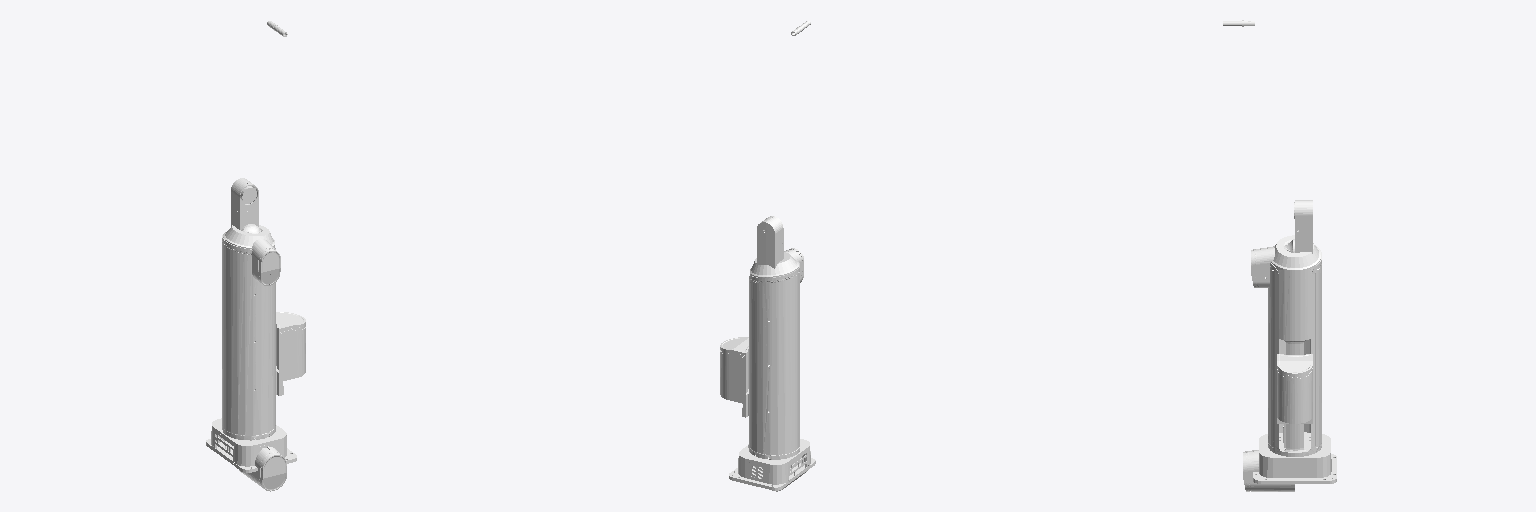
URDF robot description (cr10_robot):
<?xml version="1.0" encoding="utf-8"?>
<!-- This URDF was automatically created by SolidWorks to URDF Exporter! Originally created by [author] ([email redacted]) 
     Commit Version: 1.6.0-1-g15f4949  Build Version: 1.6.7594.29634
     For more information, please see http://wiki.ros.org/sw_urdf_exporter -->
<robot
  name="cr10_robot">
  <link name="dummy_link"/>
  <link
    name="base_link">
    <inertial>
      <origin
        xyz="-0.0017435 -4.7141E-06 0.032774"
        rpy="0 0 0" />
      <mass
        value="1.8265" />
      <inertia
        ixx="0.0041731"
        ixy="5.9354E-07"
        ixz="2.52E-05"
        iyy="0.0043128"
        iyz="-5.4503E-07"
        izz="0.0067702" />
    </inertial>
    <visual>
      <origin
        xyz="0 0 0"
        rpy="0 0 0" />
      <geometry>
        <mesh
          filename="package://cr_description/meshes/cr10/base_link.STL" />
      </geometry>
      <material
        name="">
        <color
          rgba="1 1 1 1" />
      </material>
    </visual>
    <collision>
      <origin
        xyz="0 0 0"
        rpy="0 0 0" />
      <geometry>
        <mesh
          filename="package://cr_description/meshes/cr10/base_link.STL" />
      </geometry>
    </collision>
  </link>
     <joint name="dummy_joint" type="fixed">
      <parent link="dummy_link" />
      <child  link="base_link" />
    </joint>
  <link
    name="Link1">
    <inertial>
      <origin
        xyz="-1.6635E-06 -0.010819 0.0028389"
        rpy="0 0 0" />
      <mass
        value="4.1649" />
      <inertia
        ixx="0.020714"
        ixy="-1.9343E-07"
        ixz="1.6036E-07"
        iyy="0.018824"
        iyz="-9.6731E-05"
        izz="0.014575" />
    </inertial>
    <visual>
      <origin
        xyz="0 0 0"
        rpy="0 0 0" />
      <geometry>
        <mesh
          filename="package://cr_description/meshes/cr10/Link1.STL" />
      </geometry>
      <material
        name="">
        <color
          rgba="1 1 1 1" />
      </material>
    </visual>
    <collision>
      <origin
        xyz="0 0 0"
        rpy="0 0 0" />
      <geometry>
        <mesh
          filename="package://cr_description/meshes/cr10/Link1.STL" />
      </geometry>
    </collision>
  </link>
  <joint
    name="joint1"
    type="revolute">
    <origin
      xyz="0 0 0.1765"
      rpy="0 0 0" />
    <parent
      link="base_link" />
    <child
      link="Link1" />
    <axis
      xyz="0 0 1" />
    <limit
      lower="-3.14"
      upper="3.14"
      effort="0"
      velocity="0" />
  </joint>
  <link
    name="Link2">
    <inertial>
      <origin
        xyz="-0.24631 3.5816E-07 0.19515"
        rpy="0 0 0" />
      <mass
        value="11.314" />
      <inertia
        ixx="0.033616"
        ixy="-8.2998E-07"
        ixz="-0.0033352"
        iyy="0.30683"
        iyz="-6.6457E-08"
        izz="0.29972" />
    </inertial>
    <visual>
      <origin
        xyz="0 0 0"
        rpy="0 0 0" />
      <geometry>
        <mesh
          filename="package://cr_description/meshes/cr10/Link2.STL"  />
      </geometry>
      <material
        name="">
        <color
          rgba="1 1 1 1" />
      </material>
    </visual>
    <collision>
      <origin
        xyz="0 0 0"
        rpy="0 0 0" />
      <geometry>
        <mesh
          filename="package://cr_description/meshes/cr10/Link2.STL" />
      </geometry>
    </collision>
  </link>
  <joint
    name="joint2"
    type="revolute">
    <origin
      xyz="0 0 0"
      rpy="1.5708 1.5708 0" />
    <parent
      link="Link1" />
    <child
      link="Link2" />
    <axis
      xyz="0 0 1" />
    <limit
      lower="-3.14"
      upper="3.14"
      effort="0"
      velocity="0" />
  </joint>
  <link
    name="Link3">
    <inertial>
      <origin
        xyz="-0.270855859955203 2.5144690851208E-07 0.0622960395387155"
        rpy="0 0 0" />
      <mass
        value="4.89191189064363" />
      <inertia
        ixx="0.00715720724136357"
        ixy="-5.62017408817872E-07"
        ixz="-0.00257748068989916"
        iyy="0.239673426443838"
        iyz="9.26228295895878E-08"
        izz="0.238369168055991" />
    </inertial>
    <visual>
      <origin
        xyz="0 0 0"
        rpy="0 0 0" />
      <geometry>
        <mesh
          filename="package://cr_description/meshes/cr10/Link3.STL"  />
      </geometry>
      <material
        name="">
        <color
          rgba="1 1 1 1" />
      </material>
    </visual>
    <collision>
      <origin
        xyz="0 0 0"
        rpy="0 0 0" />
      <geometry>
        <mesh
          filename="package://cr_description/meshes/cr10/Link3.STL" />
      </geometry>
    </collision>
  </link>
  <joint
    name="joint3"
    type="revolute">
    <origin
      xyz="-0.607 0 0"
      rpy="0 0 0" />
    <parent
      link="Link2" />
    <child
      link="Link3" />
    <axis
      xyz="0 0 1" />
    <limit
      lower="-2.861"
      upper="2.861"
      effort="0"
      velocity="0" />
  </joint>
  <link
    name="Link4">
    <inertial>
      <origin
        xyz="-2.53137491438456E-07 0.00798724498566683 -0.00589074229668524"
        rpy="0 0 0" />
      <mass
        value="1.16884294495796" />
      <inertia
        ixx="0.00292614933092813"
        ixy="8.20440076221281E-09"
        ixz="-8.19990423351321E-09"
        iyy="0.00150052997722543"
        iyz="-5.4492521866877E-05"
        izz="0.00273274943535585" />
    </inertial>
    <visual>
      <origin
        xyz="0 0 0"
        rpy="0 0 0" />
      <geometry>
        <mesh
          filename="package://cr_description/meshes/cr10/Link4.STL"/>
      </geometry>
      <material
        name="">
        <color
          rgba="1 1 1 1" />
      </material>
    </visual>
    <collision>
      <origin
        xyz="0 0 0"
        rpy="0 0 0" />
      <geometry>
        <mesh
          filename="package://cr_description/meshes/cr10/Link4.STL"  />
      </geometry>
    </collision>
  </link>
  <joint
    name="joint4"
    type="revolute">
    <origin
      xyz="-0.568 0 0.191"
      rpy="0 0 -1.5708" />
    <parent
      link="Link3" />
    <child
      link="Link4" />
    <axis
      xyz="0 0 1" />
    <limit
      lower="-3.14"
      upper="3.14"
      effort="0"
      velocity="0" />
  </joint>
  <link
    name="Link5">
    <inertial>
      <origin
        xyz="5.50699455951951E-07 -0.0145467578029201 -0.00454887087411437"
        rpy="0 0 0" />
      <mass
        value="1.22303084244711" />
      <inertia
        ixx="0.00337905462069531"
        ixy="3.57819902464362E-08"
        ixz="-7.51828060542842E-09"
        iyy="0.00149255573951137"
        iyz="8.41917918947542E-05"
        izz="0.00323300312341709" />
    </inertial>
    <visual>
      <origin
        xyz="0 0 0"
        rpy="0 0 0" />
      <geometry>
        <mesh
          filename="package://cr_description/meshes/cr10/Link5.STL" />
      </geometry>
      <material
        name="">
        <color
          rgba="1 1 1 1" />
      </material>
    </visual>
    <collision>
      <origin
        xyz="0 0 0"
        rpy="0 0 0" />
      <geometry>
        <mesh
          filename="package://cr_description/meshes/cr10/Link5.STL" />
      </geometry>
    </collision>
  </link>
  <joint
    name="joint5"
    type="revolute">
    <origin
      xyz="0 -0.125 0"
      rpy="1.5708 0 0" />
    <parent
      link="Link4" />
    <child
      link="Link5" />
    <axis
      xyz="0 0 1" />
    <limit
      lower="-3.14"
      upper="3.14"
      effort="0"
      velocity="0" />
  </joint>
  <link
    name="Link6">
    <inertial>
      <origin
        xyz="1.42987471244488E-10 2.29640694859867E-05 -0.0205297780389956"
        rpy="0 0 0" />
      <mass
        value="0.205439548775225" />
      <inertia
        ixx="0.000110115425573789"
        ixy="-8.21487875808426E-14"
        ixz="4.28615843947113E-14"
        iyy="0.000110662465957898"
        iyz="3.68879932665237E-08"
        izz="0.00020518429573024" />
    </inertial>
    <visual>
      <origin
        xyz="0 0 0"
        rpy="0 0 0" />
      <geometry>
        <mesh
          filename="package://cr_description/meshes/cr10/Link6.STL" />
      </geometry>
      <material
        name="">
        <color
          rgba="1 1 1 1" />
      </material>
    </visual>
    <collision>
      <origin
        xyz="0 0 0"
        rpy="0 0 0" />
      <geometry>
        <mesh
          filename="package://cr_description/meshes/cr10/Link6.STL" />
      </geometry>
    </collision>
  </link>
  <joint
    name="joint6"
    type="revolute">
    <origin
      xyz="0 0.1084 0"
      rpy="-1.5708 0 0" />
    <parent
      link="Link5" />
    <child
      link="Link6" />
    <axis
      xyz="0 0 1" />
    <limit
      lower="-6.28"
      upper="6.28"
      effort="0"
      velocity="0" />
  </joint>
</robot>

--- Render facts (derived) ---
Views: 3 orthographic renders of the robot side by side, from view 1: azimuth 30°, elevation 25°; view 2: azimuth 150°, elevation 25°; view 3: azimuth 270°, elevation 25°.
Robot: cr10_robot — 8 links, 7 joints (6 revolute, 1 fixed); root link dummy_link; default pose: all joints at 0.
Visible links, largest first — view 1: base_link, Link3, Link1, Link2; view 2: base_link, Link1, Link3; view 3: base_link, Link1, Link3, Link2.
Boxes of the visible links, box(x1,y1,x2,y2) form: base_link: box(206, 225, 296, 472); Link3: box(231, 178, 280, 285); Link1: box(276, 312, 305, 395); Link2: box(239, 446, 286, 491); base_link: box(729, 252, 815, 490); Link1: box(720, 337, 748, 417); Link3: box(757, 216, 803, 282); base_link: box(1253, 235, 1336, 483); Link1: box(1277, 354, 1312, 423); Link3: box(1251, 200, 1312, 287); Link2: box(1243, 424, 1294, 491).
Size in the robot's own frame: 0.2535 by 0.3134 by 1.42 metres.
Meshes: 7 distinct files referenced, 5 mesh visuals loaded (5 binary STL); not drawn: 2 (reference not matched to a file when rendering).
